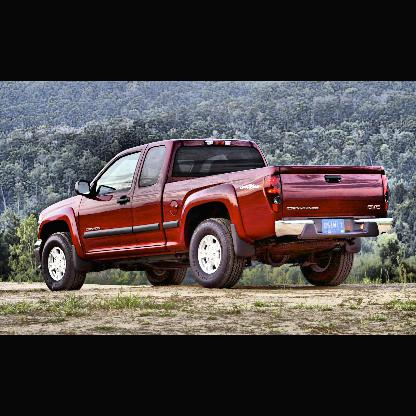GMC Canyon Extended Cab 2012: (36, 137, 394, 292)
